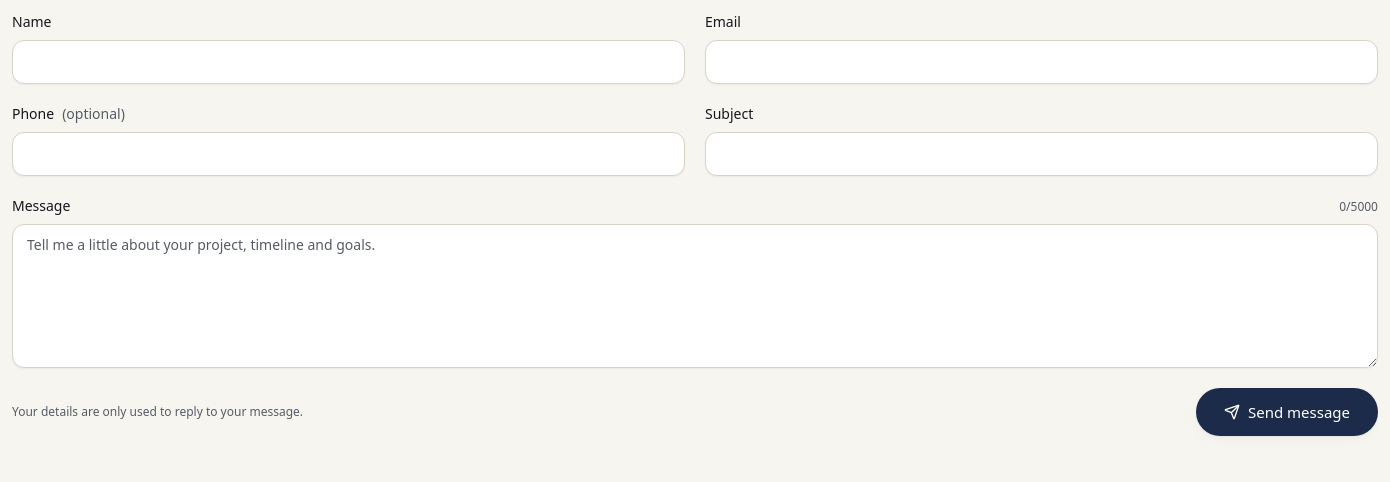
Scenario: ContactForm › validates the email format
Type "not-an-email" into the field labelled "Email" at (1042, 62), box [705, 40, 1378, 84]
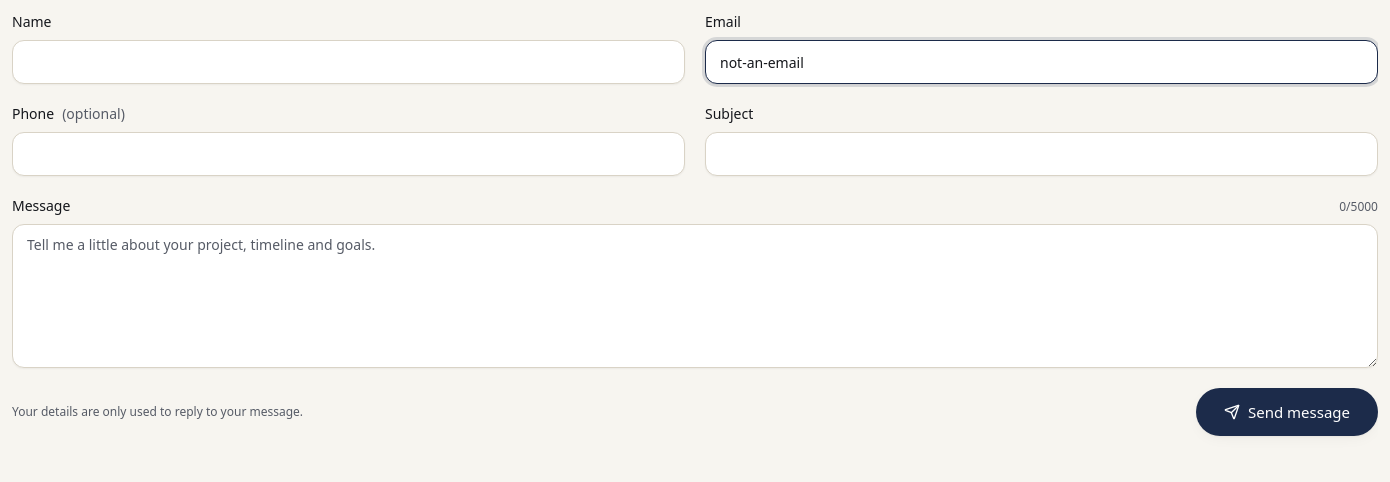
Press Tab
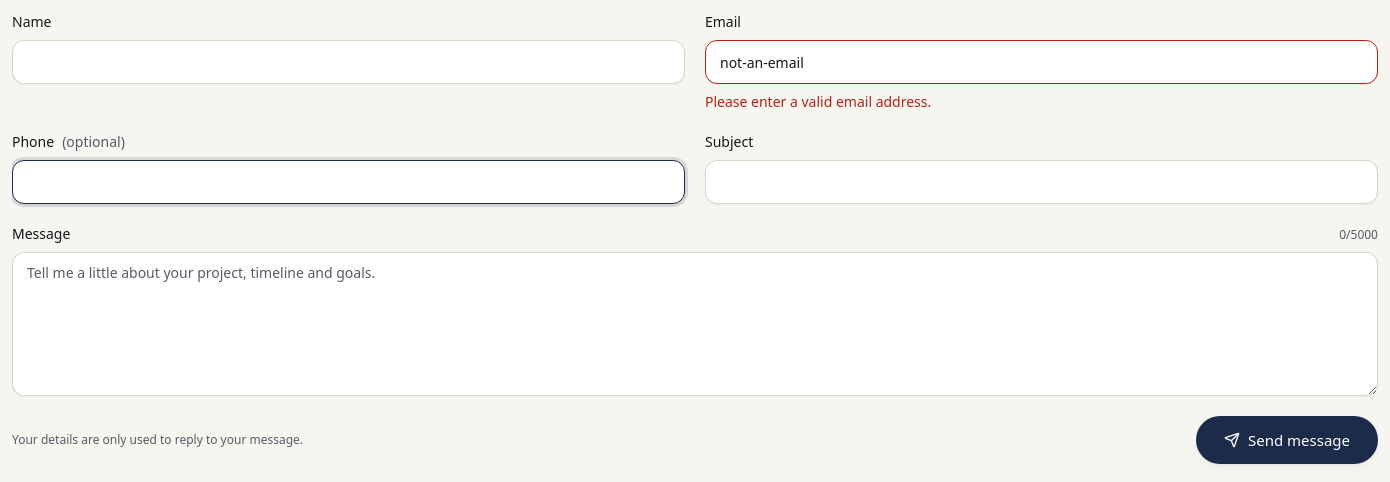
Now the text "Please enter a valid email address." is shown, box [705, 92, 931, 111]
